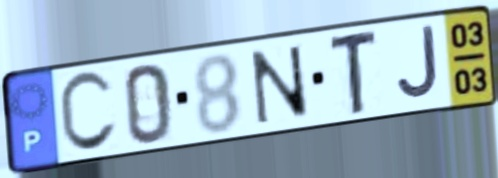0: (122, 60, 173, 147)
8: (190, 49, 245, 136)
C: (55, 68, 120, 157)
J: (394, 22, 443, 103)
N: (247, 42, 314, 127)
T: (328, 26, 381, 119)
